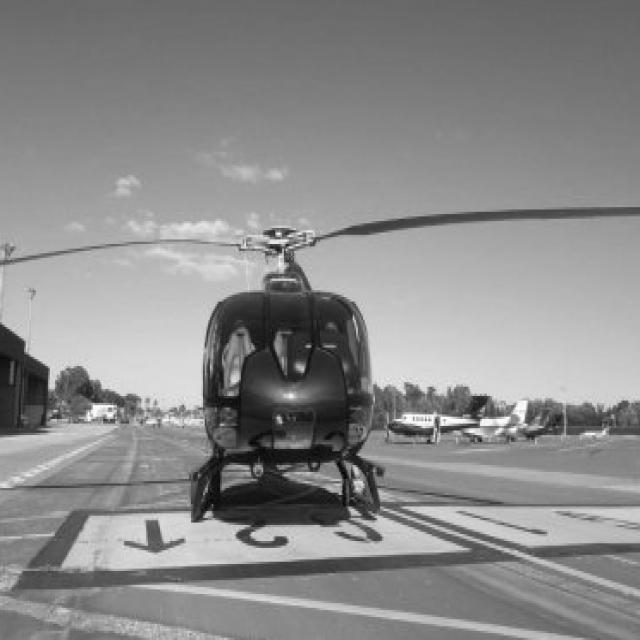helicopter: (1, 190, 640, 528)
